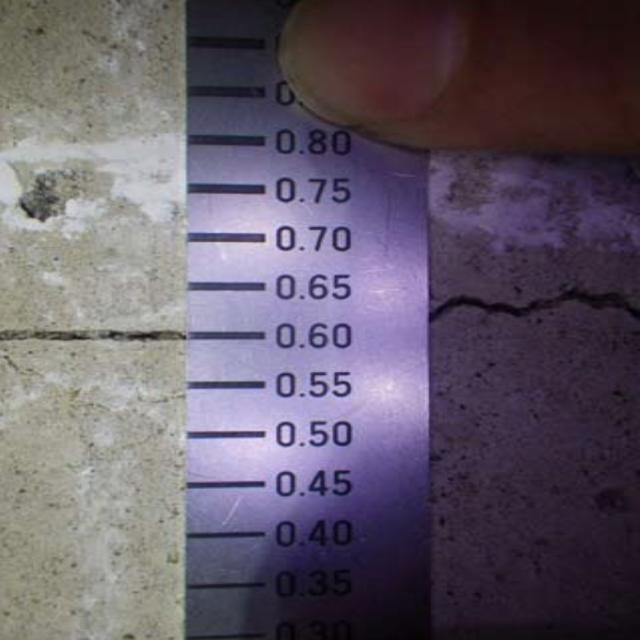crack: (434, 251, 637, 360), (0, 294, 191, 371)
